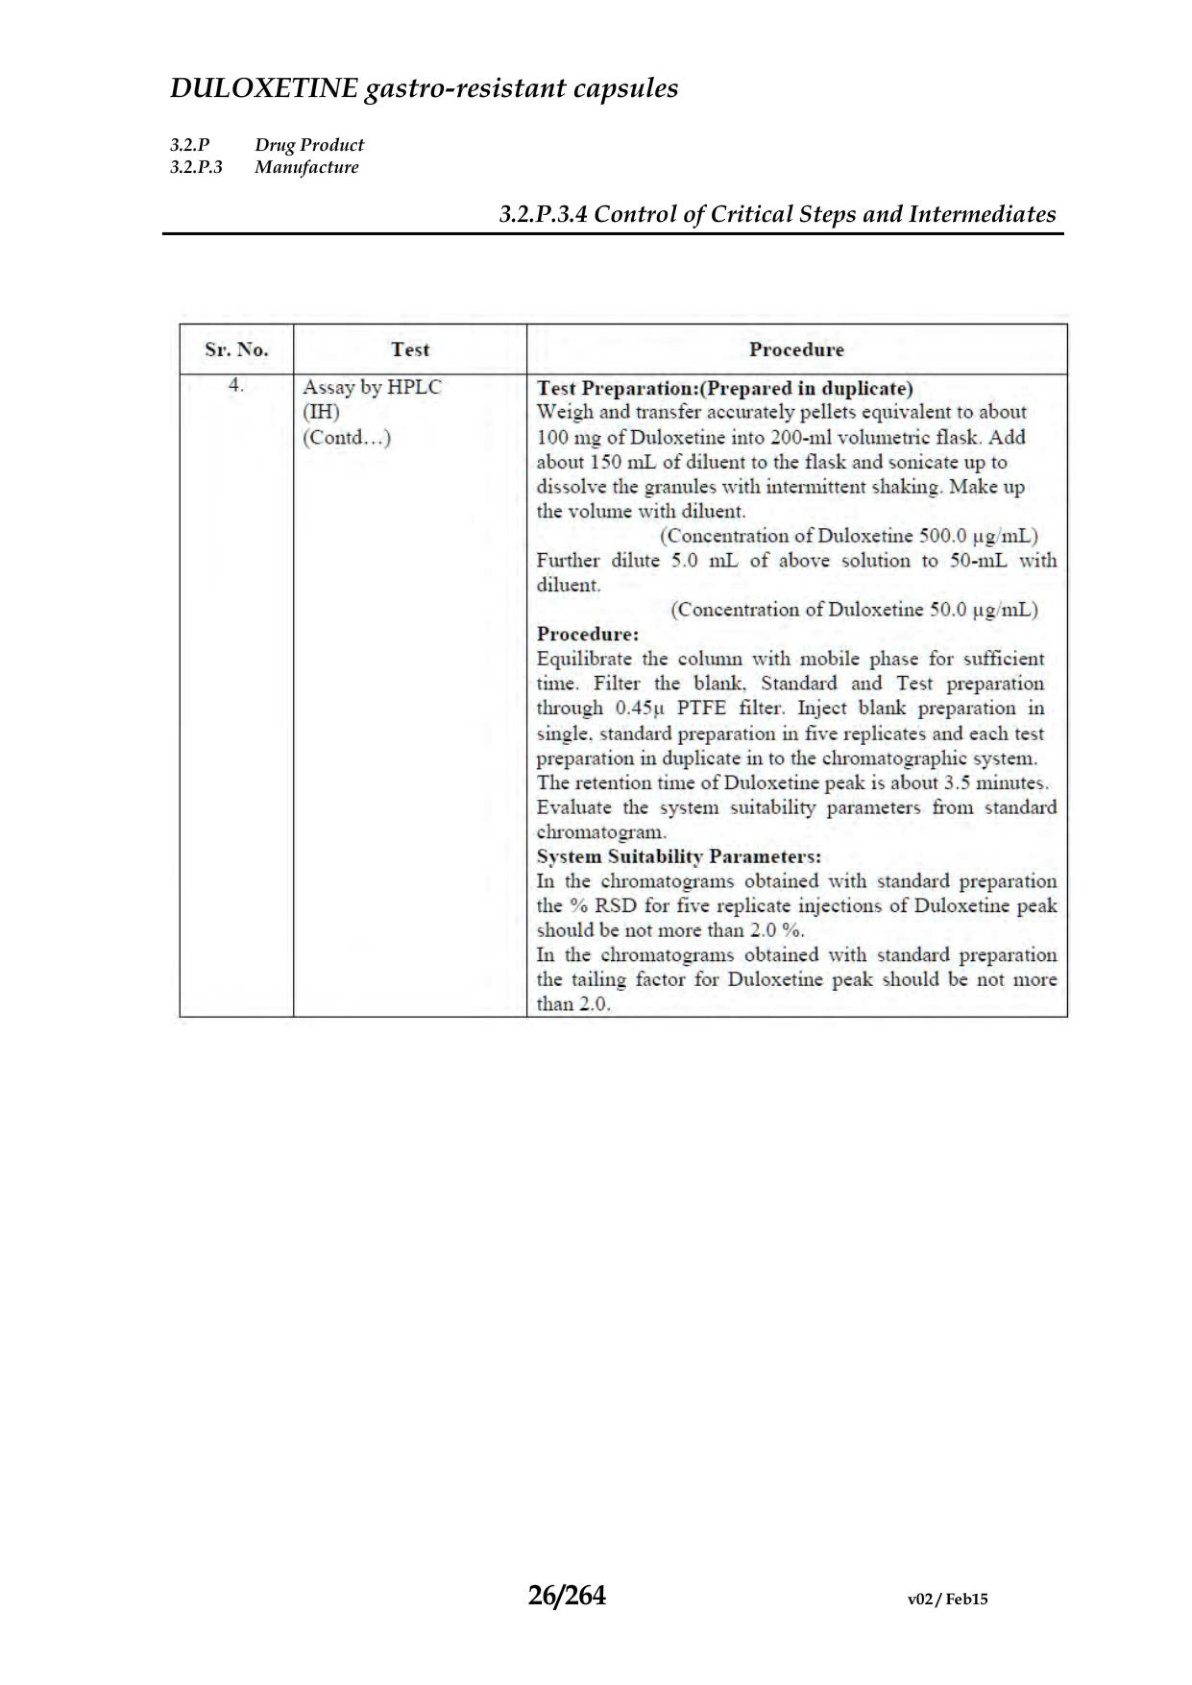full_lined: (179, 321, 1069, 1019)
